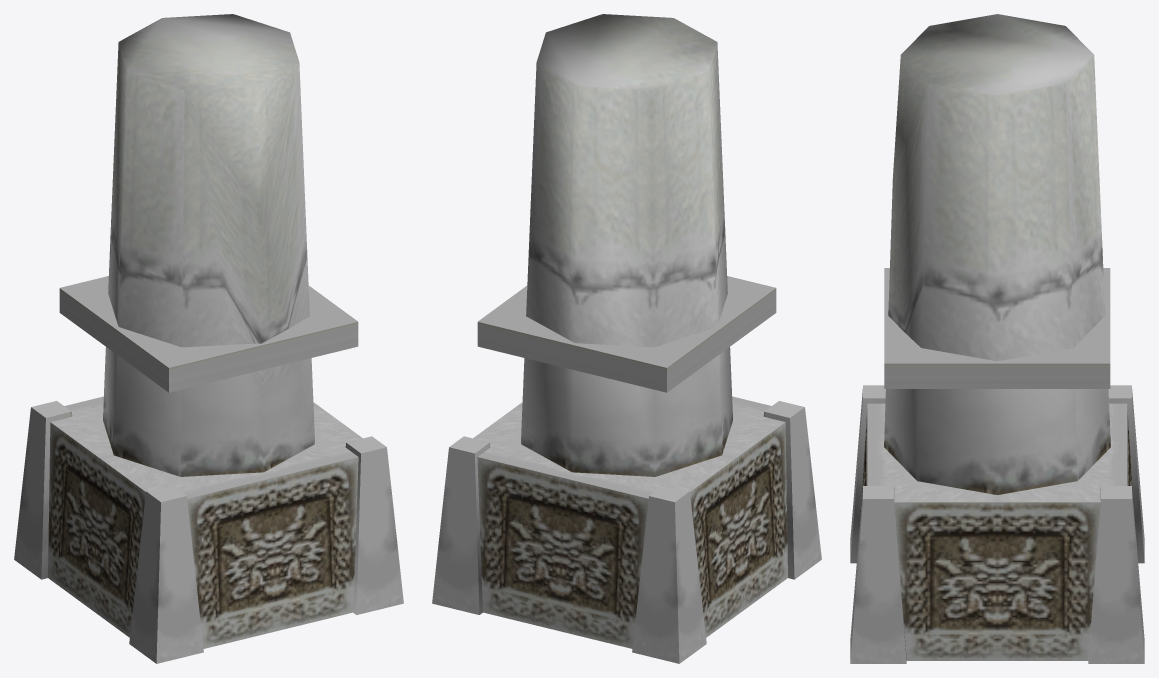
The model's file is general_obj_bigtower04_lod_01.fbx.
The picture shows the model from 3 angles, left to right: view 1: azimuth 30°, elevation 25°; view 2: azimuth 150°, elevation 25°; view 3: azimuth 270°, elevation 25°; orthographic projection. The views are drawn at different scales.
Parts seen in each view (by area): view 1: Sphere01; view 2: Sphere01; view 3: Sphere01.
Boxes of the visible parts, x1=… form: Sphere01: x1=14, y1=14, x2=403, y2=663; Sphere01: x1=432, y1=14, x2=821, y2=663; Sphere01: x1=850, y1=14, x2=1144, y2=663.
Bounding box in the file's own units: 5.22 × 10.68 × 5.21.
